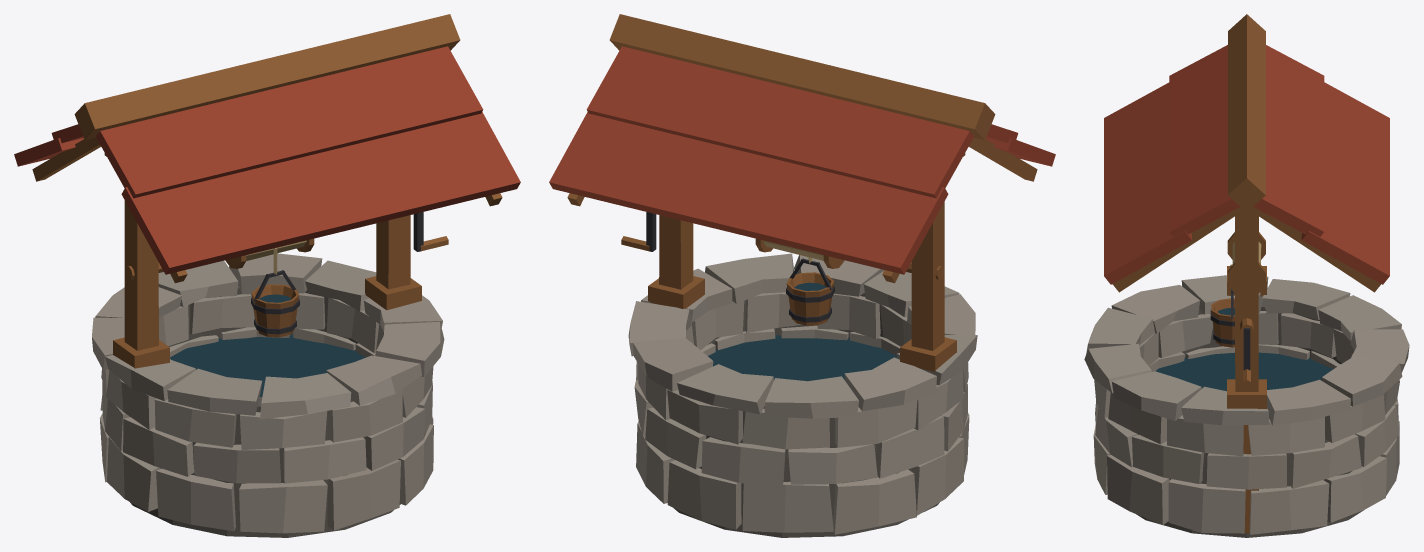
The model's file is well.glb.
The picture shows the model from 3 angles, left to right: view 1: azimuth 30°, elevation 25°; view 2: azimuth 150°, elevation 25°; view 3: azimuth 270°, elevation 25°; orthographic projection. The views are drawn at different scales.
Parts seen in each view (by area): view 1: well; view 2: well; view 3: well.
Part boxes in pixels (bbox=[...]): well: bbox=[14, 14, 520, 537]; well: bbox=[549, 14, 1055, 537]; well: bbox=[1084, 14, 1409, 537].
Size of the model in its own units: 2.9 by 3.14 by 2.43.
